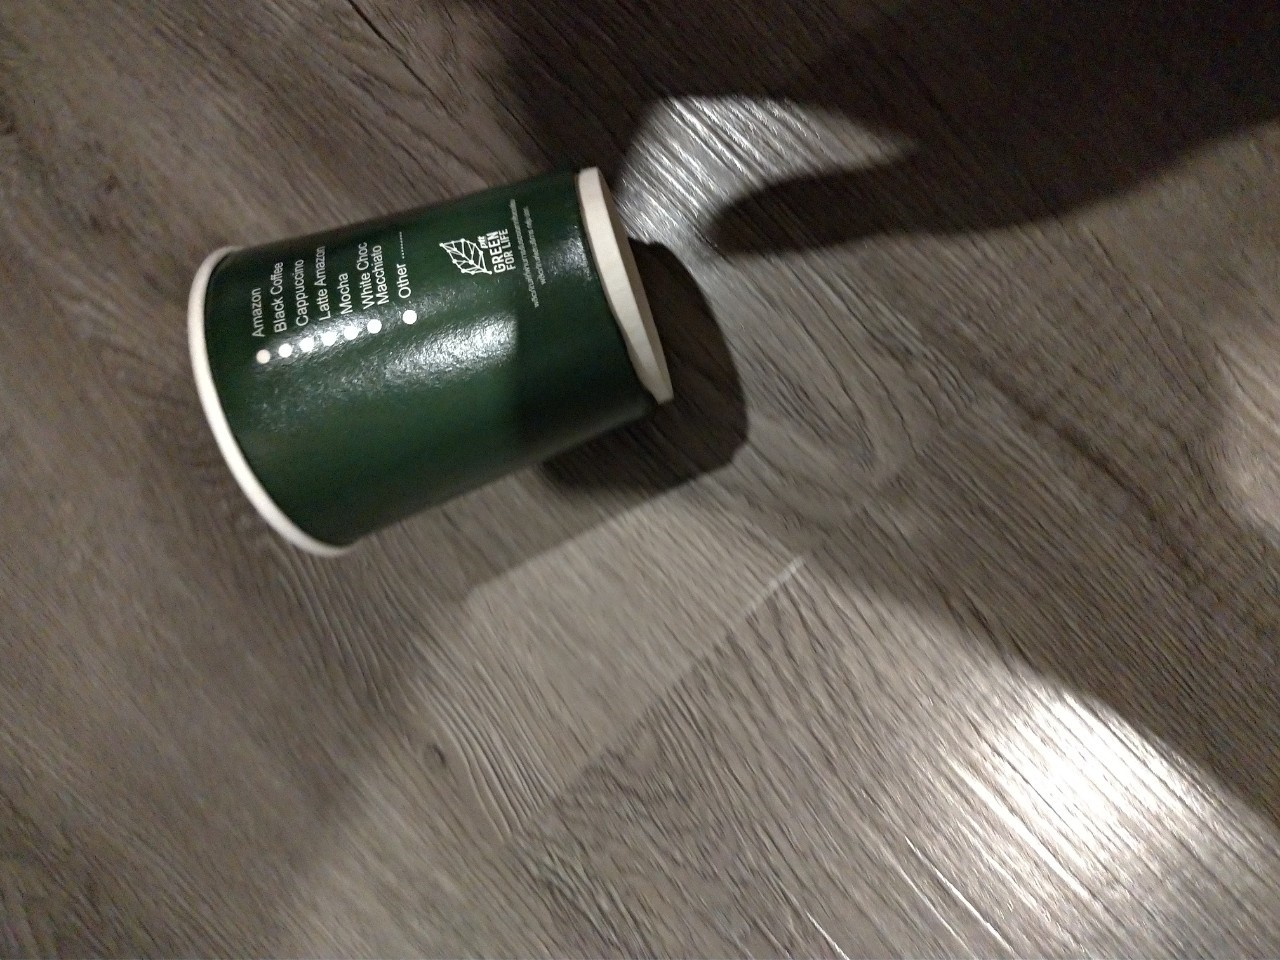PaperCup: (183, 152, 680, 572)
